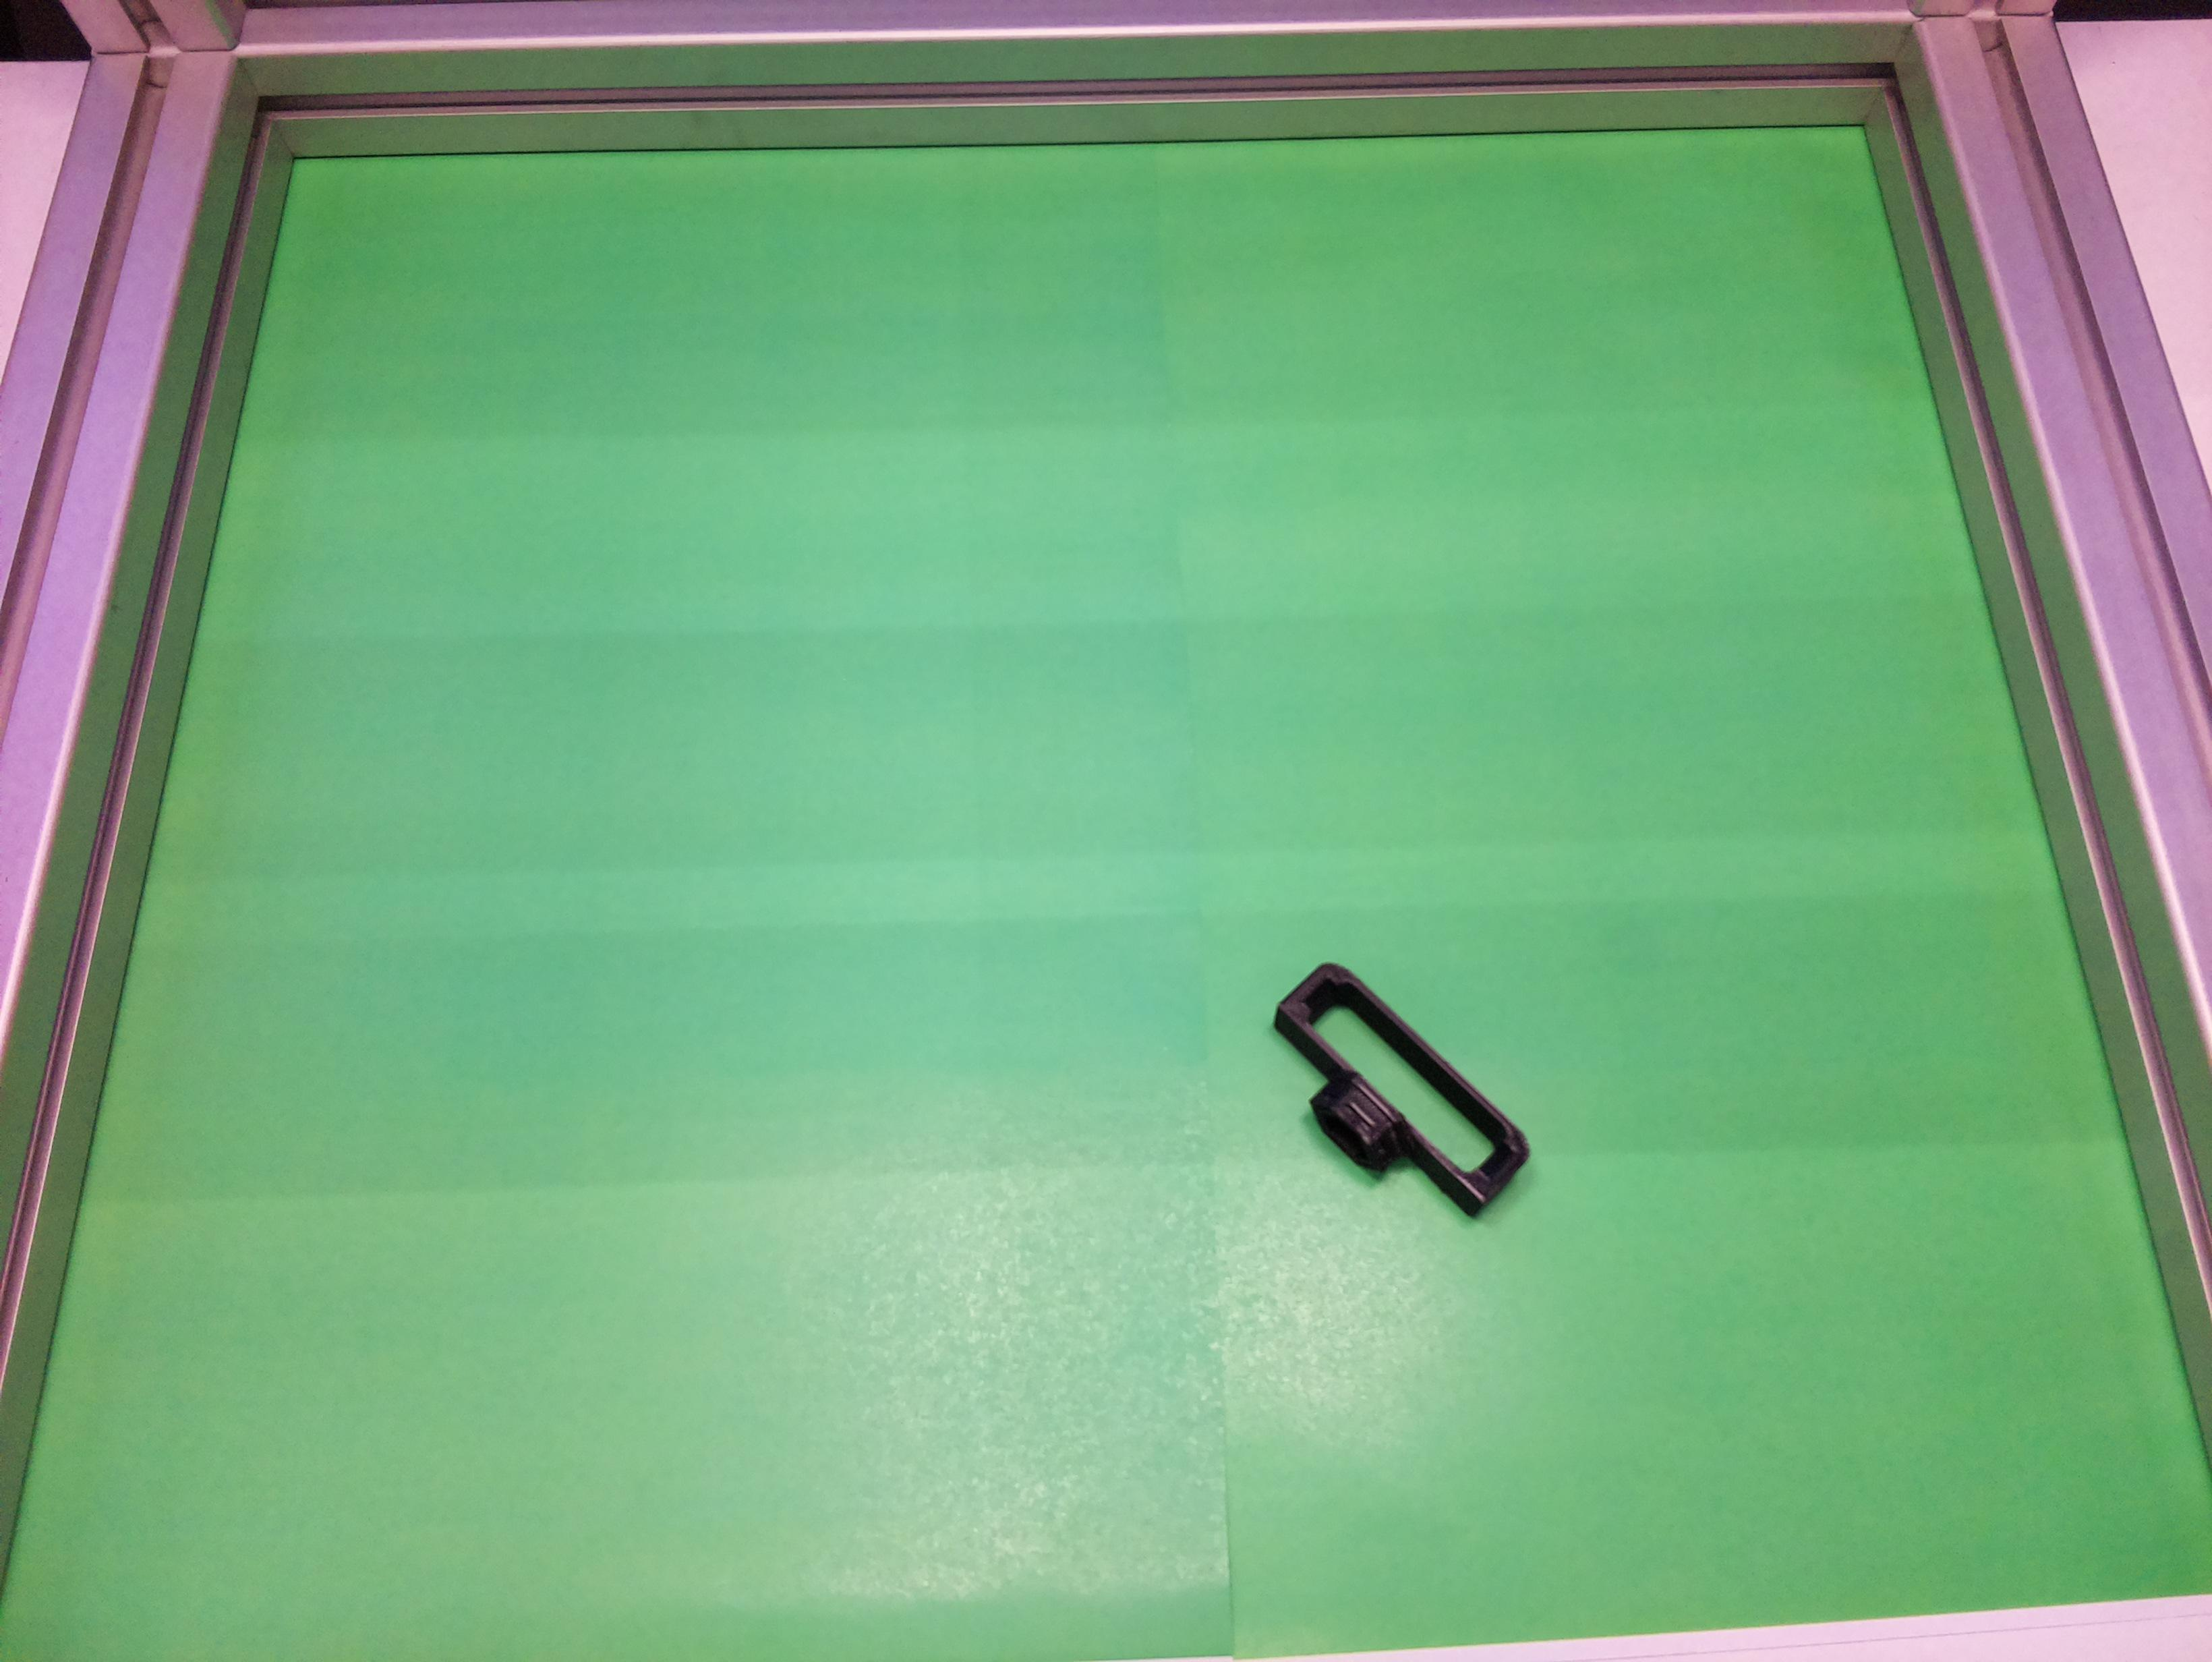cutter_holder: (1236, 950, 1542, 1248)
